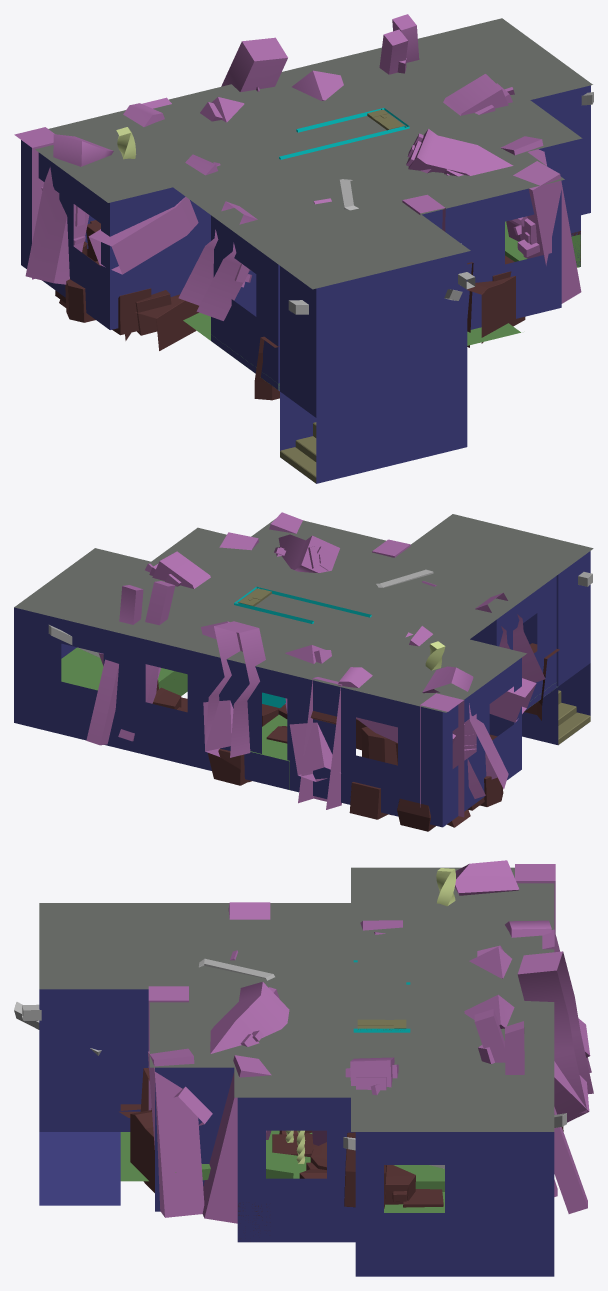
The model's file is Nivel_3_New (1).fbx.
The picture shows the model from 3 angles, top to bottom: view 1: azimuth 30°, elevation 25°; view 2: azimuth 150°, elevation 25°; view 3: azimuth 270°, elevation 25°; orthographic projection. The views are drawn at different scales.
Parts seen in each view (by area): view 1: PAREDES, Techo, Protuberancias_Paredes, Protu_suelo, Piso, Escalera_1, Ramas, Escalera_2; view 2: Techo, PAREDES, Protuberancias_Paredes, Protu_suelo, Piso, Escalera_1, Escalera_2, Ramas; view 3: Techo, PAREDES, Protuberancias_Paredes, Protu_suelo, Piso, Ramas, Escalera_1, Estaca_3_Big.
Boxes of the visible parts, x1,y1,x2,y2 form: PAREDES: (21, 85, 590, 483); Techo: (35, 18, 592, 289); Protuberancias_Paredes: (14, 14, 581, 320); Protu_suelo: (55, 220, 580, 400); Piso: (183, 221, 580, 390); Escalera_1: (279, 108, 409, 159); Ramas: (288, 92, 593, 314); Escalera_2: (280, 422, 316, 483); Techo: (14, 514, 593, 712); PAREDES: (14, 551, 590, 827); Protuberancias_Paredes: (86, 512, 545, 817); Protu_suelo: (152, 643, 559, 831); Piso: (61, 647, 557, 789); Escalera_1: (234, 586, 371, 714); Escalera_2: (558, 690, 590, 744); Ramas: (48, 569, 592, 657); Techo: (39, 867, 554, 1131); PAREDES: (39, 989, 554, 1276); Protuberancias_Paredes: (148, 860, 593, 1223); Protu_suelo: (119, 1068, 563, 1232); Piso: (120, 1130, 444, 1212); Ramas: (14, 958, 566, 1168); Escalera_1: (353, 960, 410, 1032); Estaca_3_Big: (436, 868, 455, 906).
Bounding box in the file's own units: 16.32 × 7.16 × 14.3.
